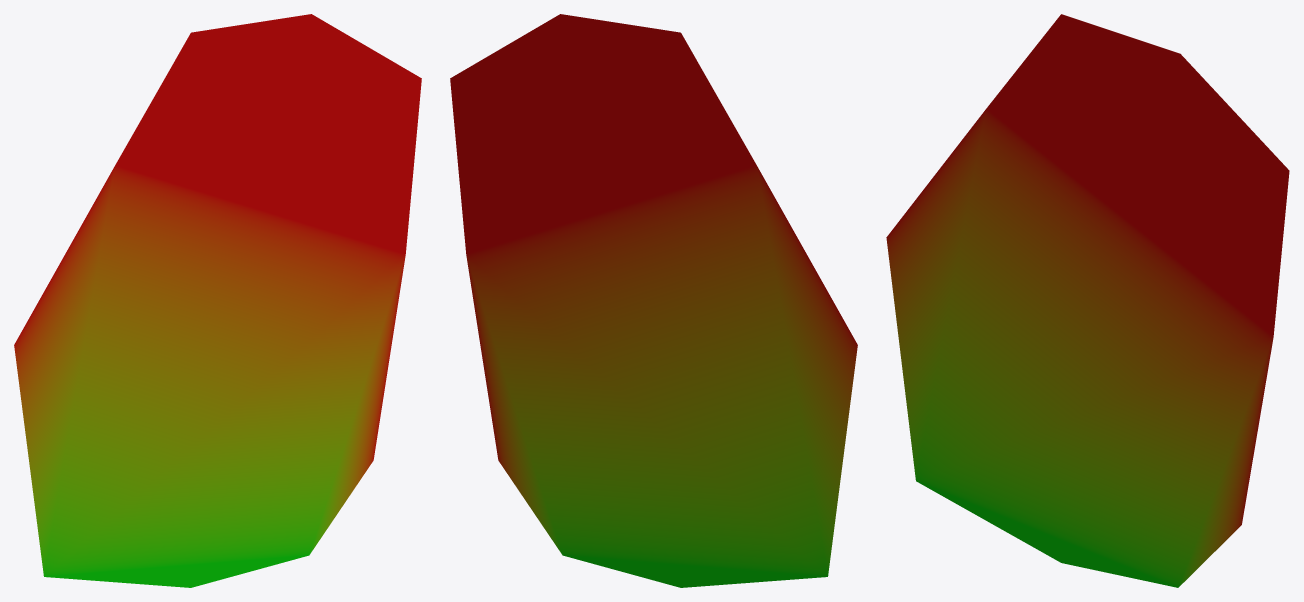
The model's file is Dead Finish_LOD3_Var2_ucokaamia.fbx.
The picture shows the model from 3 angles, left to right: view 1: azimuth 30°, elevation 25°; view 2: azimuth 150°, elevation 25°; view 3: azimuth 330°, elevation 25°; orthographic projection.
Parts seen in each view (by area): view 1: _d9zs_Var2_LOD3; view 2: _d9zs_Var2_LOD3; view 3: _d9zs_Var2_LOD3.
Part boxes in pixels (x1,y1,x2,y2): _d9zs_Var2_LOD3: (14,14,421,587); _d9zs_Var2_LOD3: (450,14,857,587); _d9zs_Var2_LOD3: (886,14,1289,587).
Bounding box in the file's own units: 41.86 × 54.48 × 9.34e-06.
